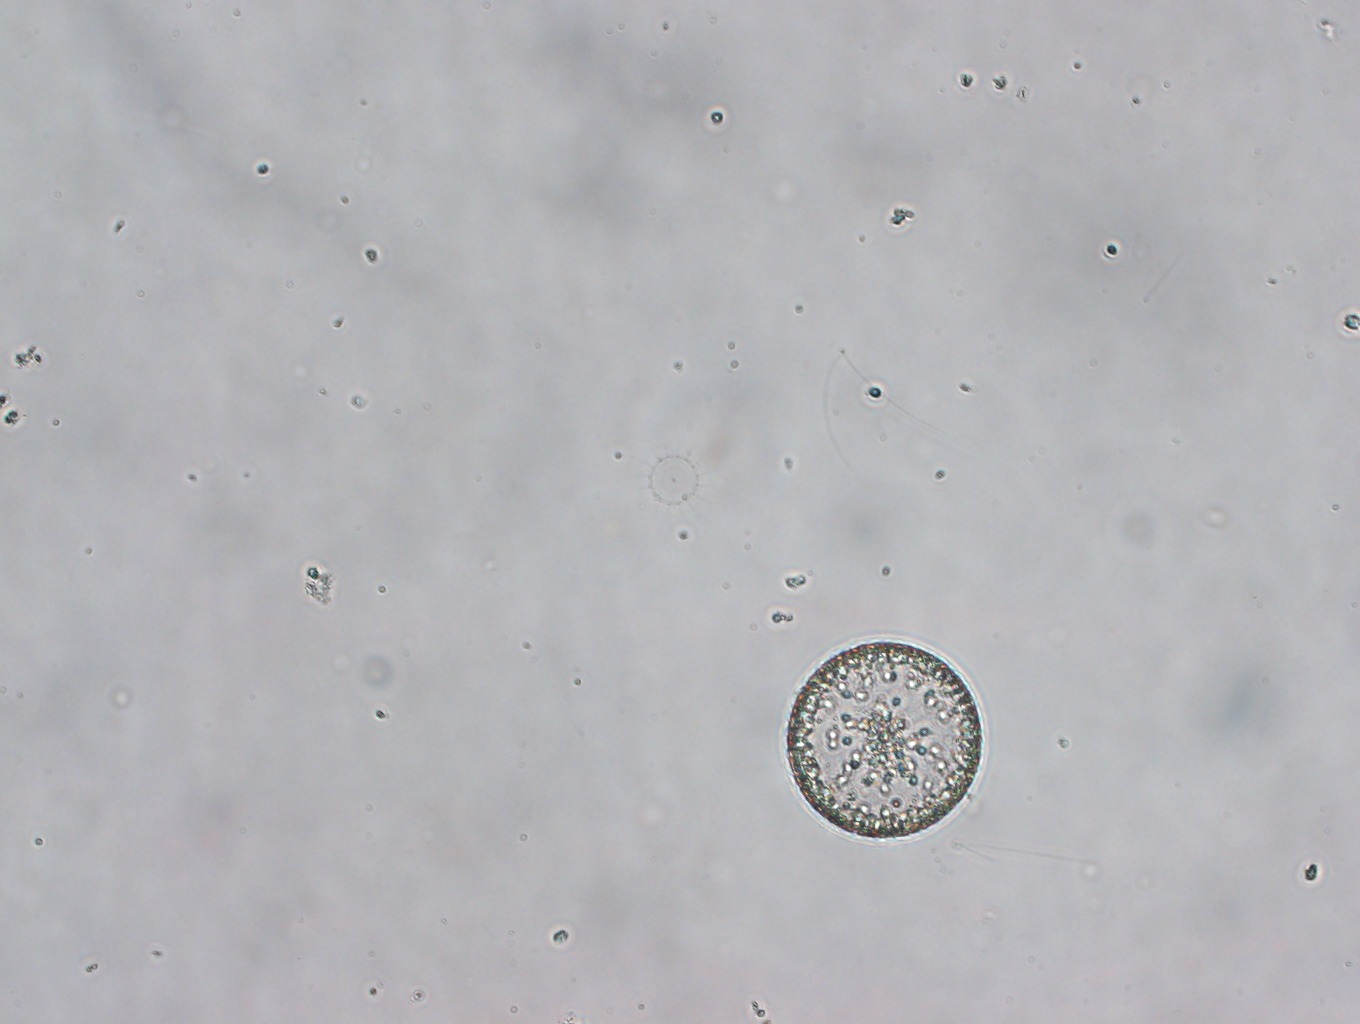coscinodiscus: (785, 640, 983, 840)
